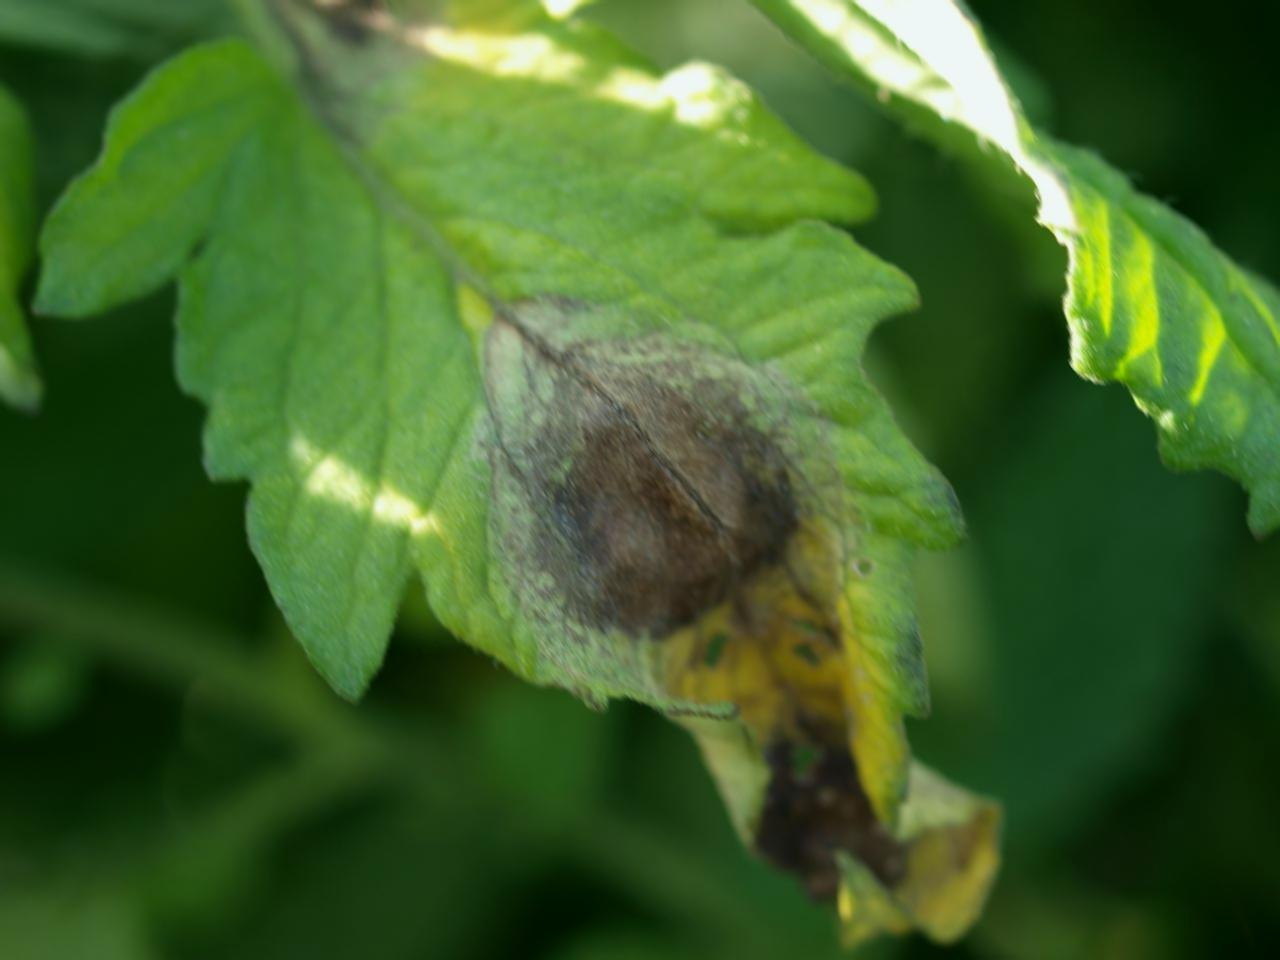Tomato leaf late blight: (21, 37, 1007, 952)
